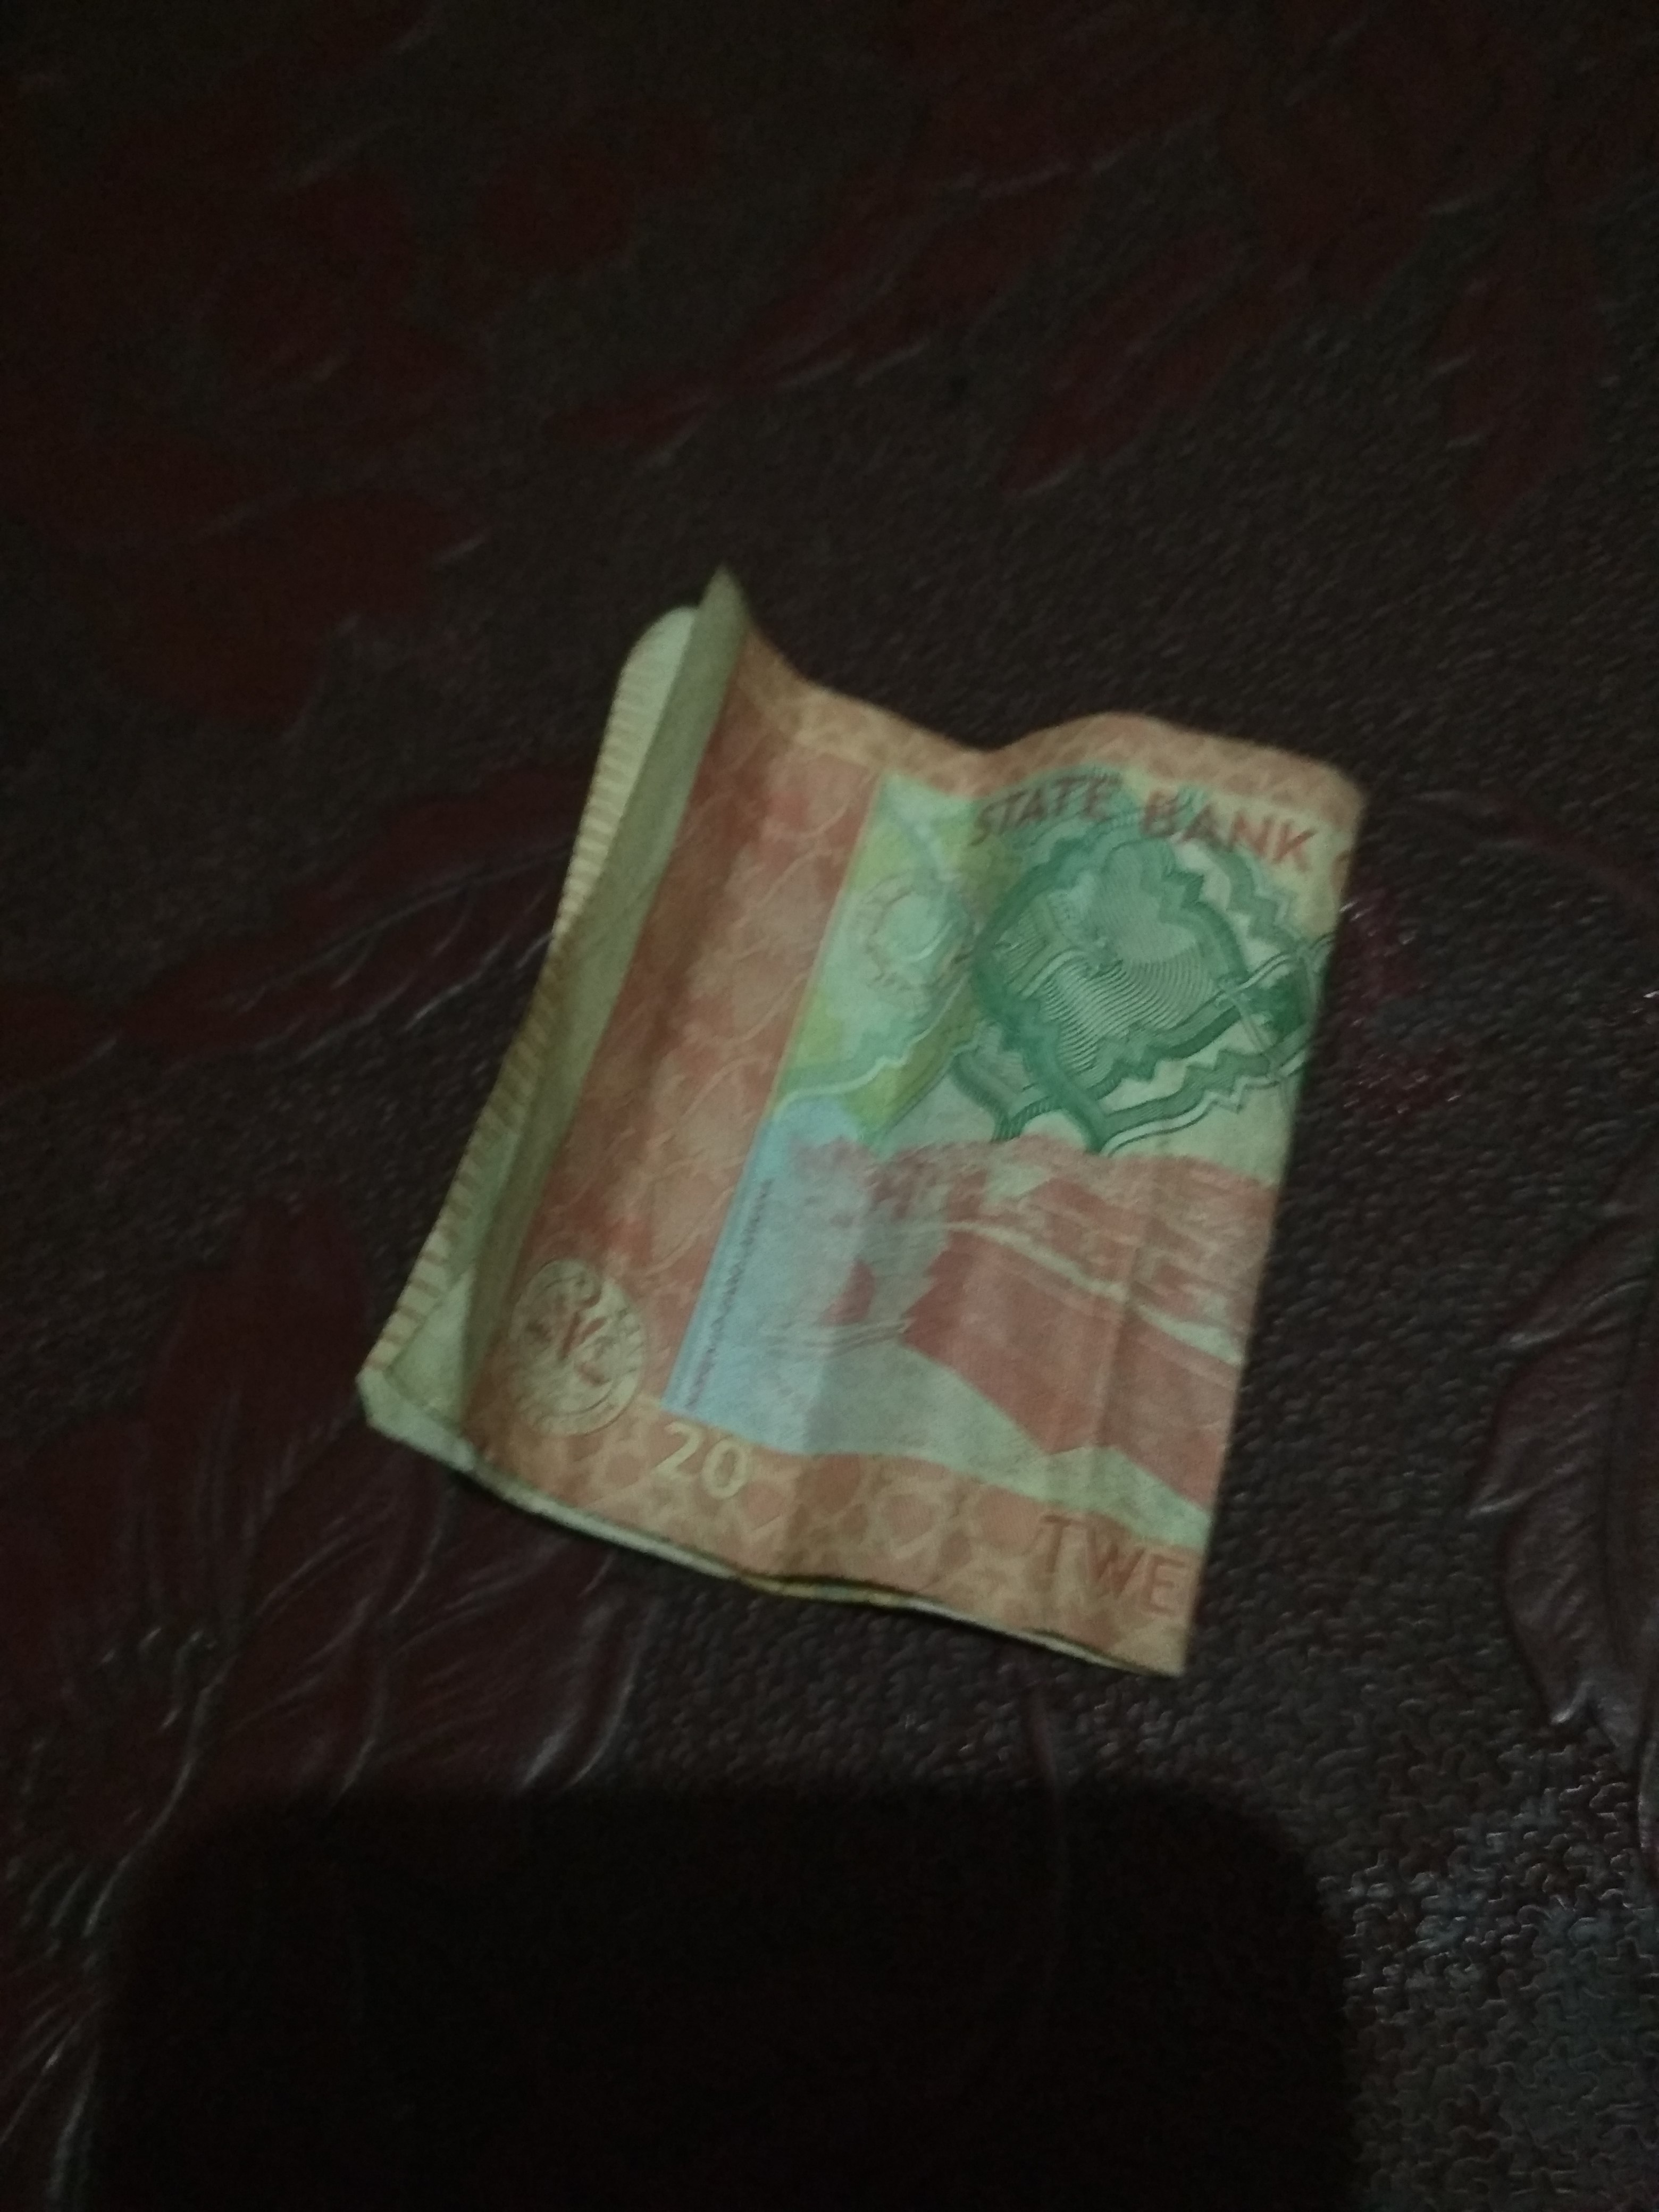20 rupee: (354, 556, 1413, 1689)
